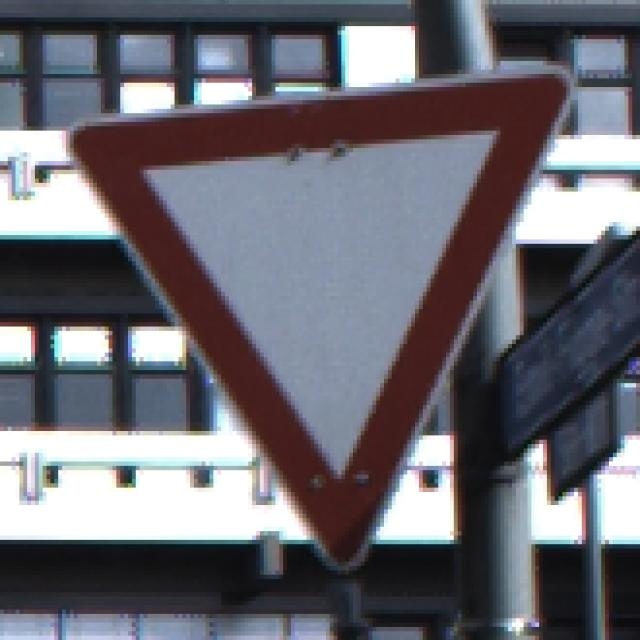Give Way: (59, 53, 587, 589)
